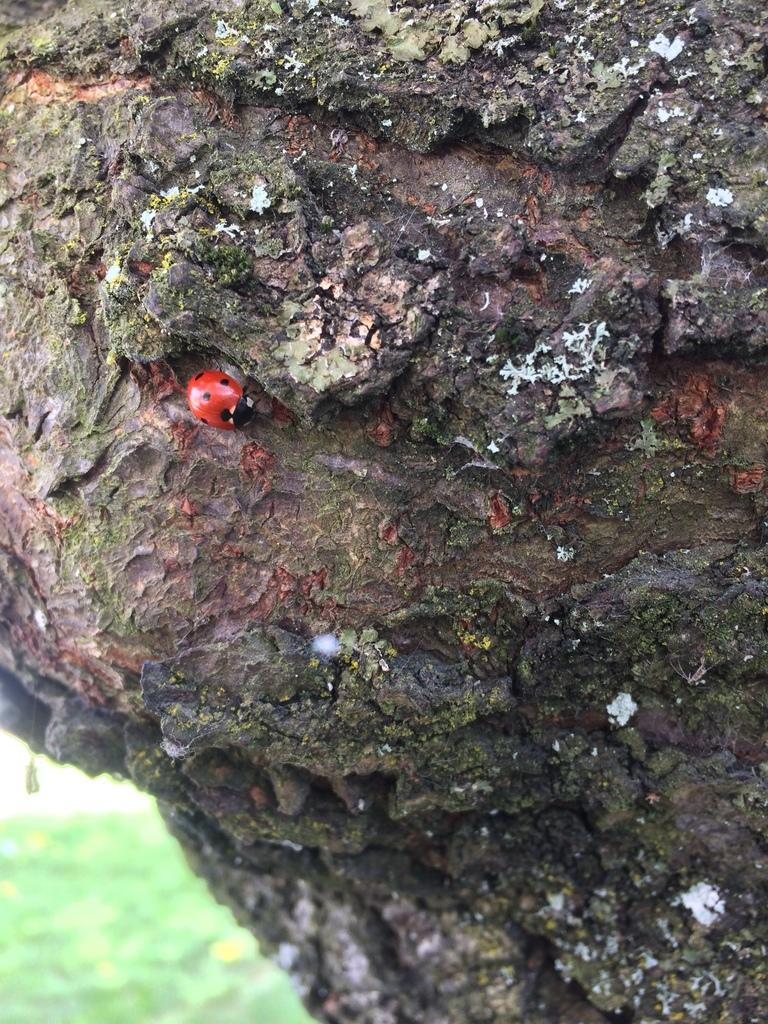ladybug: (185, 367, 265, 434)
